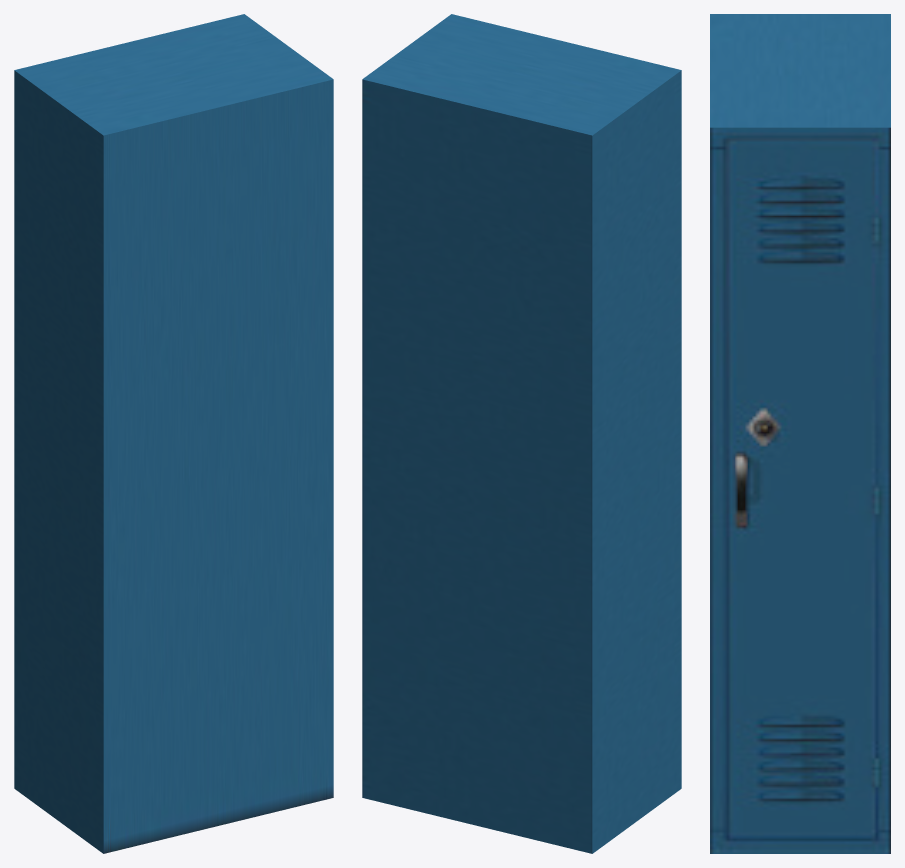
File: Locker.fbx
The picture shows the model from 3 angles, left to right: view 1: azimuth 30°, elevation 25°; view 2: azimuth 150°, elevation 25°; view 3: azimuth 270°, elevation 25°; orthographic projection.
Parts seen in each view (by area): view 1: Cube; view 2: Cube; view 3: Cube.
Boxes of the visible parts, x1,y1,x2,y2 form: Cube: [14, 14, 333, 853]; Cube: [362, 14, 681, 853]; Cube: [710, 14, 890, 853].
Bounding box in the file's own units: 200 × 596 × 134.
